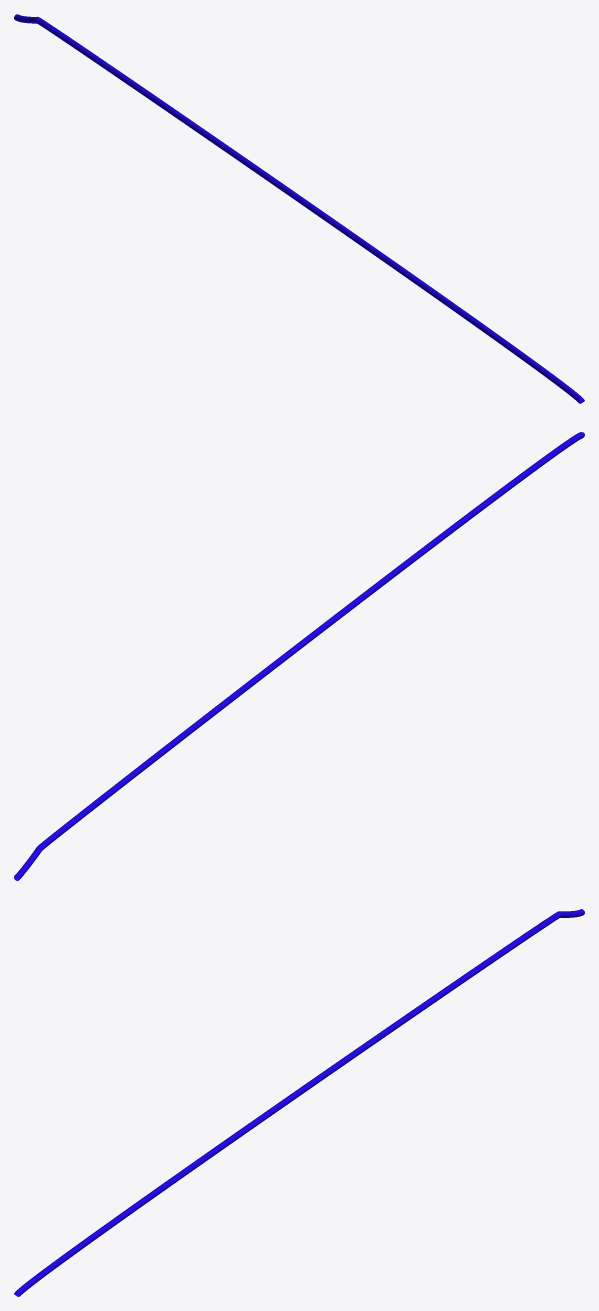
File: cable azul largo.fbx
3 views of the same model, one above another, from view 1: azimuth 30°, elevation 25°; view 2: azimuth 150°, elevation 25°; view 3: azimuth 330°, elevation 25° (orthographic).
Visible parts, largest first — view 1: BézierCurve.002; view 2: BézierCurve.002; view 3: BézierCurve.002.
Part boxes in pixels (x1=…): BézierCurve.002: x1=14, y1=14, x2=584, y2=403; BézierCurve.002: x1=14, y1=432, x2=584, y2=880; BézierCurve.002: x1=14, y1=909, x2=584, y2=1296.
Bounding box in the file's own units: 5.45 × 29.77 × 799.
